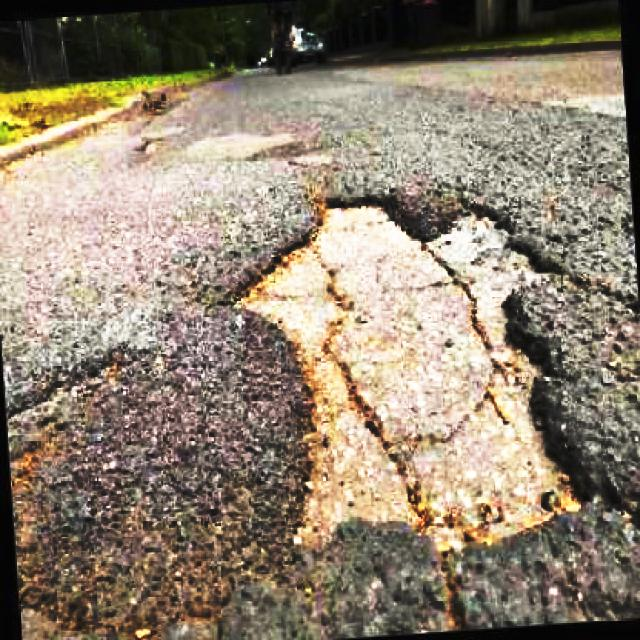pothole: (234, 191, 603, 563)
